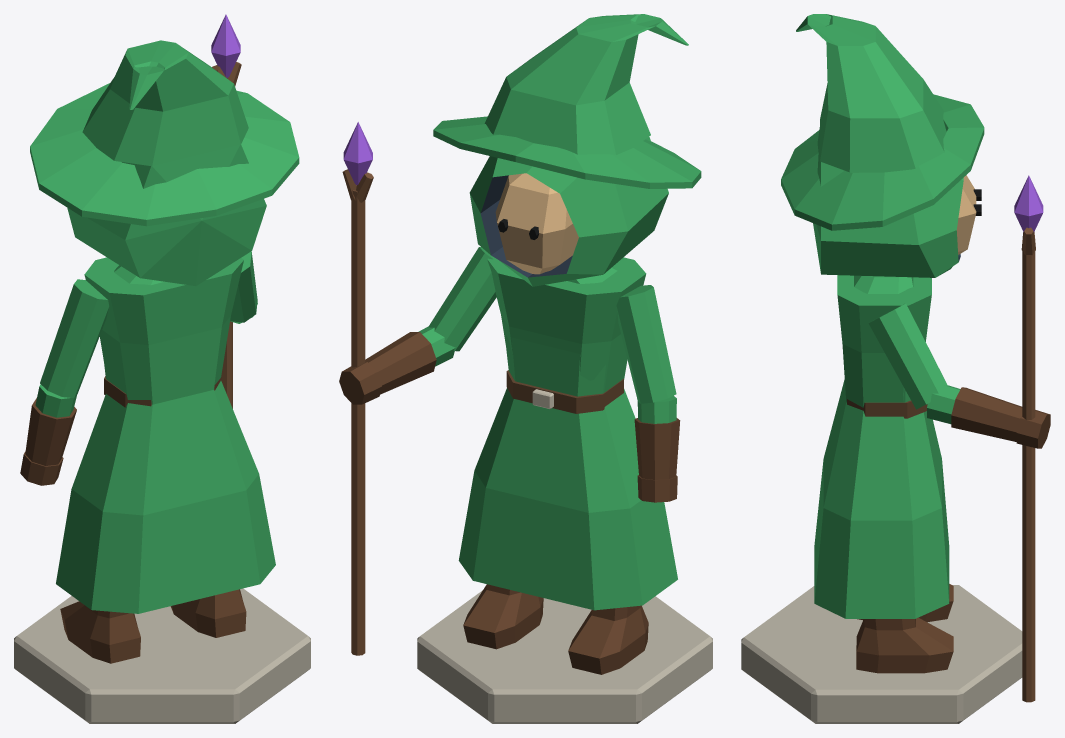
File: human_mage_t2.glb
3 views of the same model, side by side, from view 1: azimuth 30°, elevation 25°; view 2: azimuth 150°, elevation 25°; view 3: azimuth 270°, elevation 25° (orthographic).
Visible parts, largest first — view 1: Caster_Continuous_Long_Robe, Foundation_Hexagonal_Stone, Mage_One_Broad_Thin_Wizard_Brim, Mage_One_Left_Back_Bent_Wizard_Hat, Caster_Open_Low_Cowl, left_upper_sleeve, Boot_-1, Boot_1, left_bracer, right_upper_sleeve, Mage_Exactly_One_Violet_Diamond_Crystal, left_lower_sleeve (+3 smaller); view 2: Caster_Continuous_Long_Robe, Foundation_Hexagonal_Stone, Mage_One_Left_Back_Bent_Wizard_Hat, Caster_Open_Low_Cowl, Mage_One_Broad_Thin_Wizard_Brim, Mage_One_Plain_Wooden_Staff_Shaft, Angular_Face, left_upper_sleeve, Boot_-1, Continuous_Tunic_Bodice, Boot_1, right_upper_sleeve (+8 smaller); view 3: Caster_Continuous_Long_Robe, Foundation_Hexagonal_Stone, Mage_One_Left_Back_Bent_Wizard_Hat, Mage_One_Broad_Thin_Wizard_Brim, Caster_Open_Low_Cowl, Mage_One_Plain_Wooden_Staff_Shaft, Boot_1, right_upper_sleeve, right_bracer, Angular_Face, Mage_Exactly_One_Violet_Diamond_Crystal, Continuous_Tunic_Bodice (+3 smaller).
Part boxes in pixels (left/top/right/bottom): Caster_Continuous_Long_Robe: left=56, top=257, right=275, bottom=613; Foundation_Hexagonal_Stone: left=14, top=588, right=310, bottom=723; Mage_One_Broad_Thin_Wizard_Brim: left=30, top=83, right=299, bottom=226; Mage_One_Left_Back_Bent_Wizard_Hat: left=82, top=40, right=248, bottom=166; Caster_Open_Low_Cowl: left=67, top=144, right=266, bottom=286; left_upper_sleeve: left=40, top=279, right=109, bottom=398; Boot_-1: left=60, top=601, right=140, bottom=663; Boot_1: left=170, top=589, right=246, bottom=637; left_bracer: left=25, top=398, right=76, bottom=465; right_upper_sleeve: left=230, top=251, right=257, bottom=322; Mage_Exactly_One_Violet_Diamond_Crystal: left=211, top=14, right=240, bottom=78; left_lower_sleeve: left=35, top=384, right=76, bottom=417; Caster_Continuous_Long_Robe: left=458, top=256, right=677, bottom=610; Foundation_Hexagonal_Stone: left=417, top=590, right=712, bottom=723; Mage_One_Left_Back_Bent_Wizard_Hat: left=484, top=14, right=688, bottom=155; Caster_Open_Low_Cowl: left=469, top=137, right=668, bottom=286; Mage_One_Broad_Thin_Wizard_Brim: left=433, top=116, right=701, bottom=188; Mage_One_Plain_Wooden_Staff_Shaft: left=351, top=190, right=365, bottom=655; Angular_Face: left=495, top=173, right=578, bottom=274; left_upper_sleeve: left=616, top=285, right=676, bottom=403; Boot_-1: left=568, top=605, right=648, bottom=674; Continuous_Tunic_Bodice: left=505, top=266, right=617, bottom=396; Boot_1: left=463, top=584, right=543, bottom=649; right_upper_sleeve: left=428, top=247, right=496, bottom=351; Caster_Continuous_Long_Robe: left=814, top=275, right=949, bottom=618; Foundation_Hexagonal_Stone: left=741, top=585, right=1022, bottom=723; Mage_One_Left_Back_Bent_Wizard_Hat: left=796, top=14, right=946, bottom=172; Mage_One_Broad_Thin_Wizard_Brim: left=781, top=94, right=984, bottom=230; Caster_Open_Low_Cowl: left=813, top=127, right=963, bottom=277; Mage_One_Plain_Wooden_Staff_Shaft: left=1022, top=240, right=1035, bottom=702; Boot_1: left=856, top=617, right=953, bottom=673; right_upper_sleeve: left=868, top=303, right=947, bottom=409; right_bracer: left=951, top=387, right=1022, bottom=441; Angular_Face: left=956, top=175, right=976, bottom=254; Mage_Exactly_One_Violet_Diamond_Crystal: left=1014, top=175, right=1043, bottom=232; Continuous_Tunic_Bodice: left=854, top=275, right=913, bottom=402.
Bounding box in the file's own units: 0.995 × 2.2 × 0.983.
